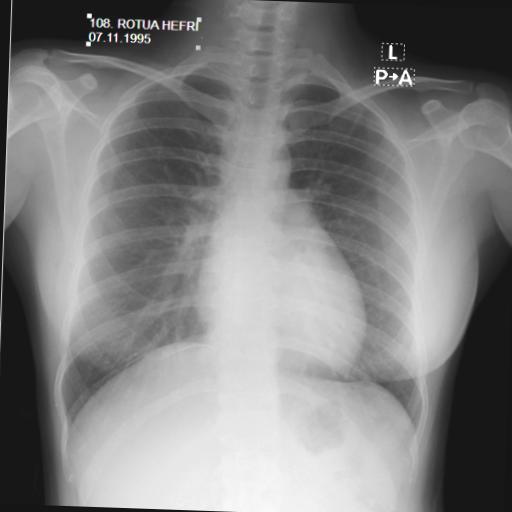normal: (44, 46, 443, 454)
